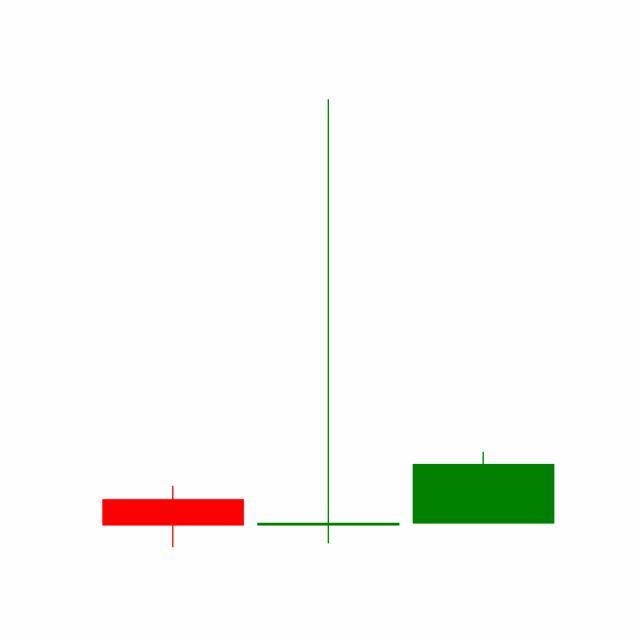Spinning Top: (250, 95, 407, 550)
